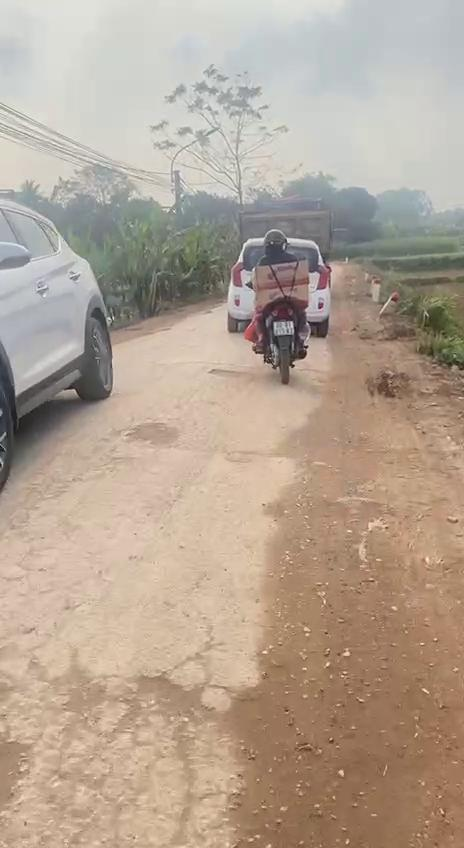pothole: (53, 653, 271, 759), (120, 416, 178, 450), (205, 365, 248, 384)
